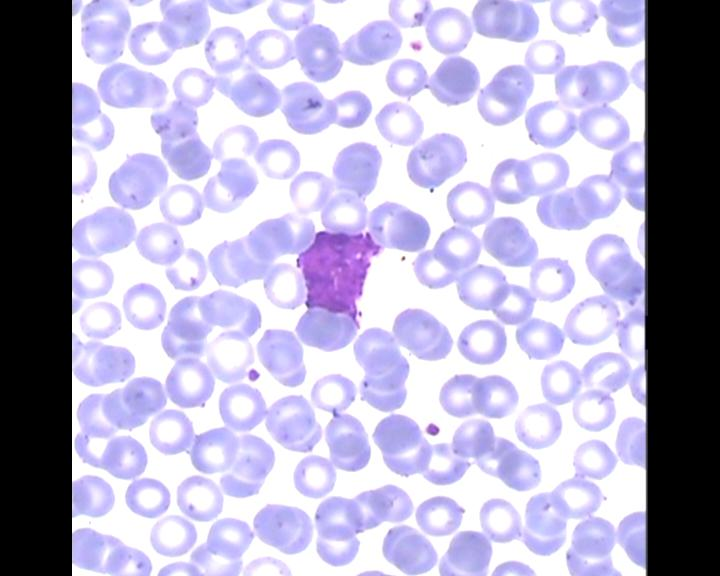baso: (295, 228, 382, 325)
